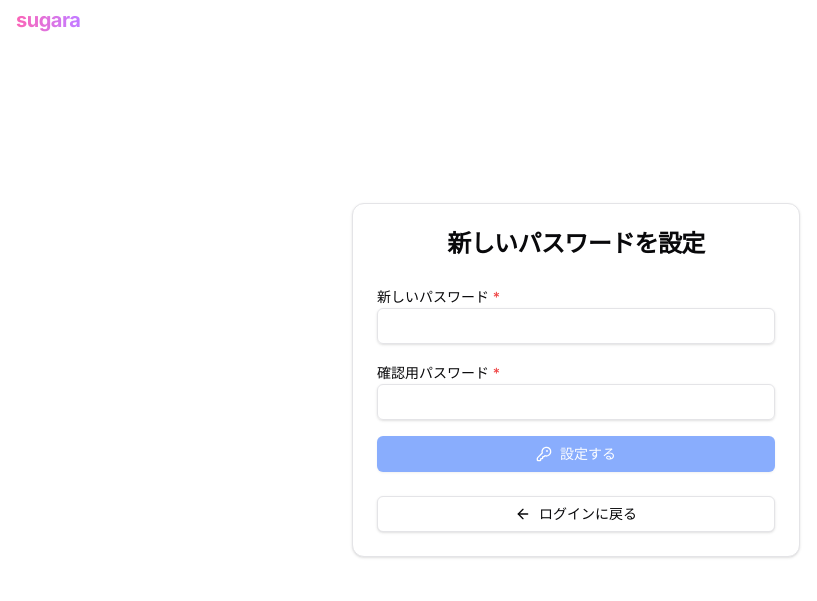
Test: ResetPasswordPage › パスワードが一致しない場合はエラーを表示する
Type "Password1!" into the password field labelled "新しいパスワード *" at (576, 326), box [377, 308, 775, 344]
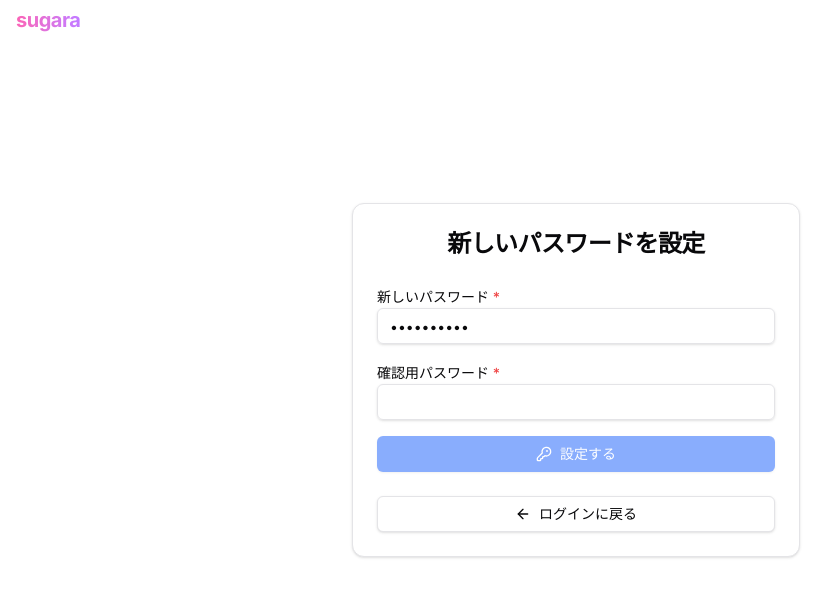
Type "Different1!" into the password field labelled "確認用パスワード *" at (576, 402), box [377, 384, 775, 420]
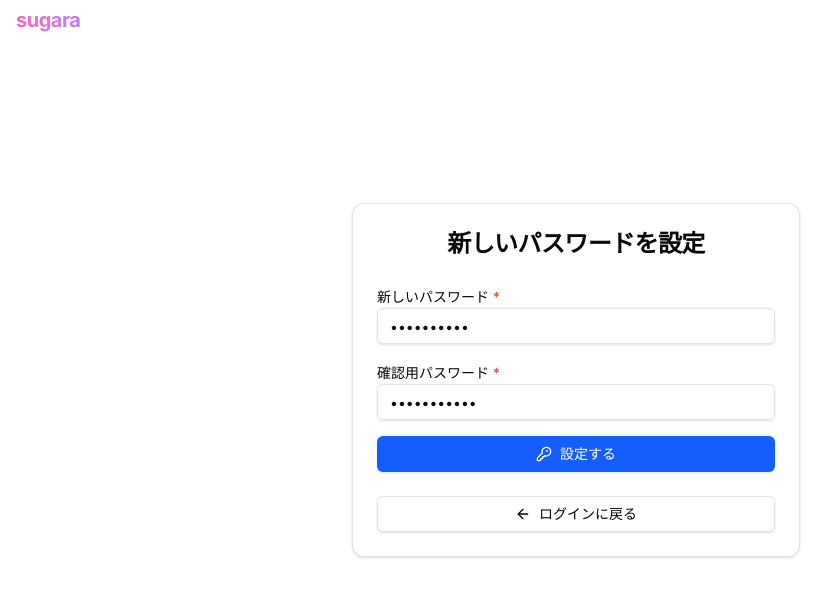
Click the button "設定する" at (576, 454), box [377, 436, 775, 472]
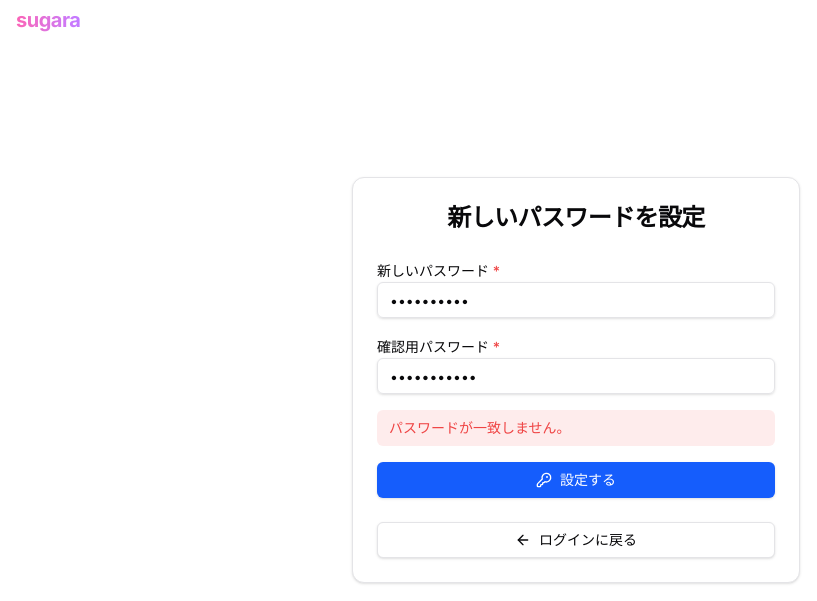
expect the text "パスワードが一致しません。" is shown: met, box [377, 410, 775, 446]
